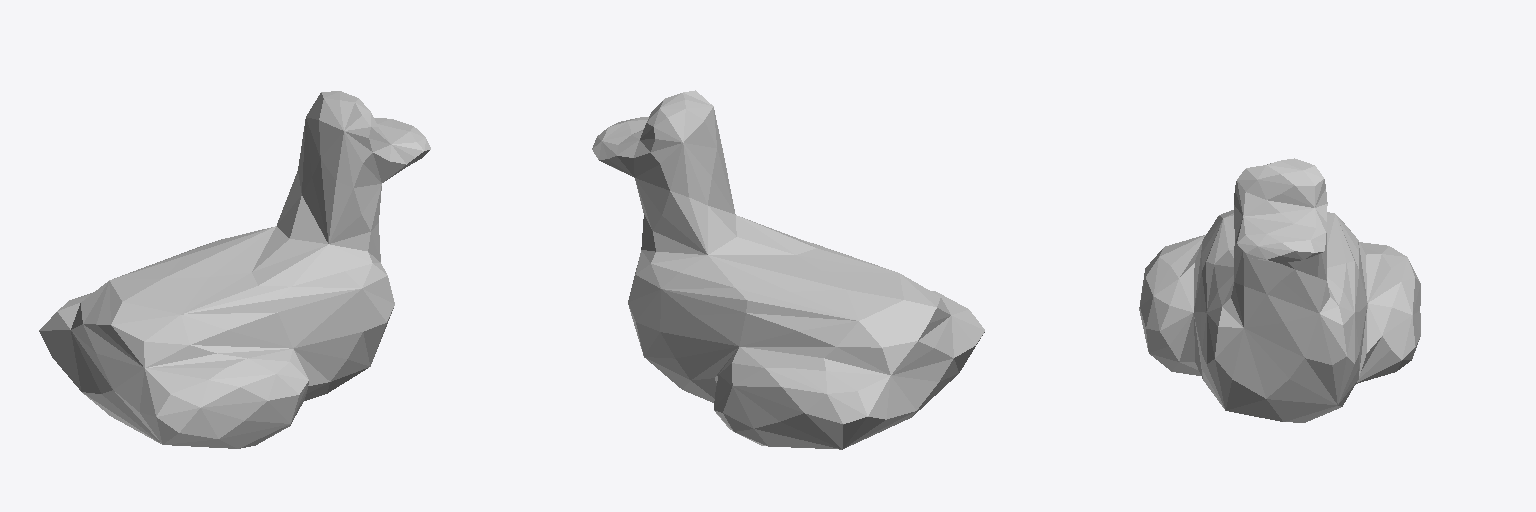
File: green_blue.obj
3 views of the same model, side by side, from view 1: azimuth 30°, elevation 25°; view 2: azimuth 150°, elevation 25°; view 3: azimuth 270°, elevation 25° (orthographic).
Parts seen in each view (by area): view 1: squared_duck; view 2: squared_duck; view 3: squared_duck.
Part boxes in pixels (left/top/right/bottom): squared_duck: left=39, top=91, right=430, bottom=448; squared_duck: left=592, top=90, right=984, bottom=449; squared_duck: left=1139, top=158, right=1420, bottom=422.
Size of the model in its own units: 11.88 by 9.39 by 8.82.